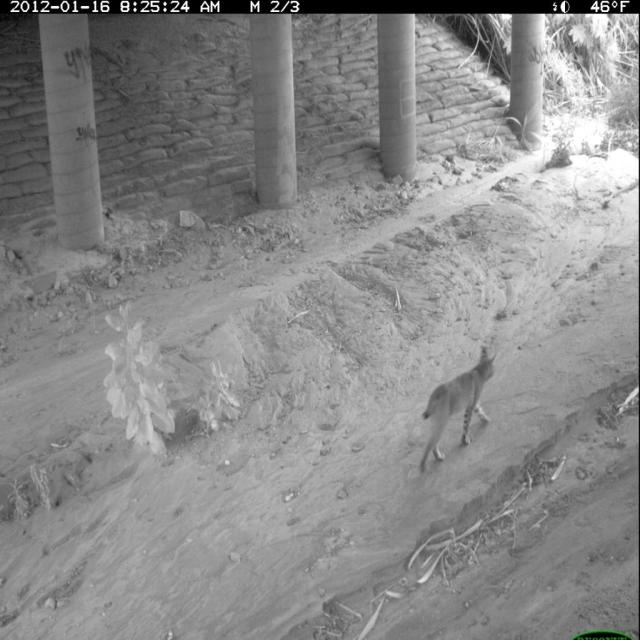bobcat: (413, 340, 503, 479)
